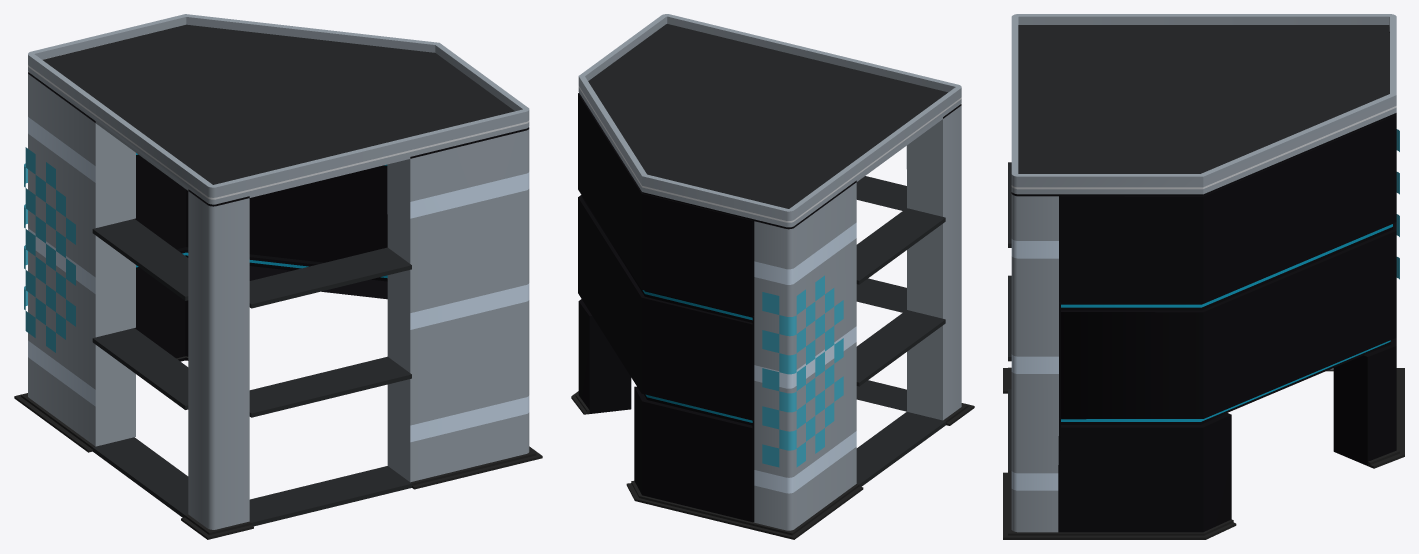
Rendered from Building_Basic_001_L0.fbx.
3 views of the same model, side by side, from view 1: azimuth 30°, elevation 25°; view 2: azimuth 150°, elevation 25°; view 3: azimuth 270°, elevation 25° (orthographic). The views are drawn at different scales.
Visible parts, largest first — view 1: Building_Basic_001_L0; view 2: Building_Basic_001_L0; view 3: Building_Basic_001_L0.
Boxes of the visible parts, bbox=[...] form: Building_Basic_001_L0: bbox=[14, 14, 542, 539]; Building_Basic_001_L0: bbox=[571, 14, 974, 539]; Building_Basic_001_L0: bbox=[1003, 14, 1404, 539].
Size of the model in its own units: 16.7 by 16.5 by 16.7.
